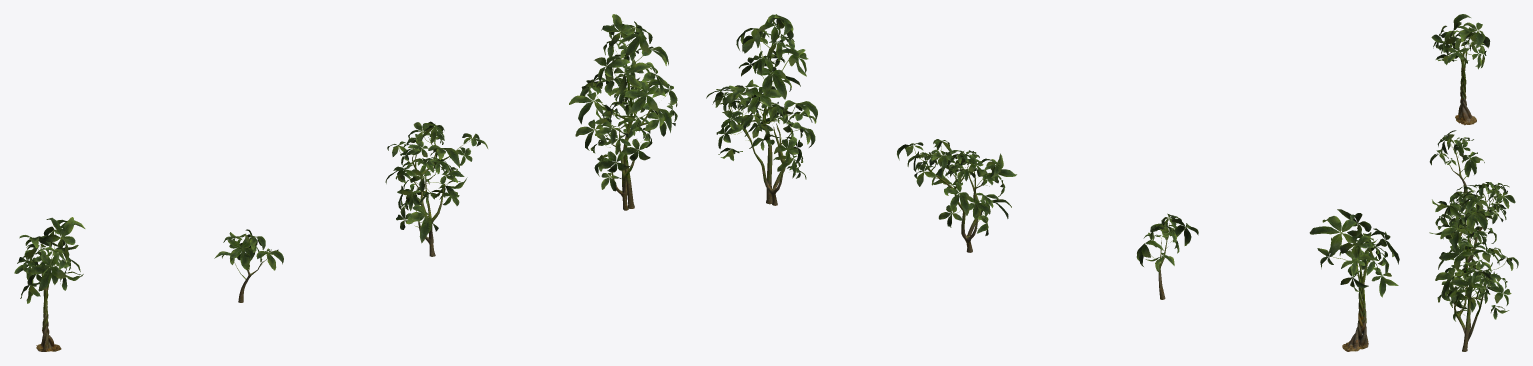
File: pachira_aquatica_01.glb
3 renders of one model, left to right at view 1: azimuth 30°, elevation 25°; view 2: azimuth 150°, elevation 25°; view 3: azimuth 270°, elevation 25°, orthographic. The views are drawn at different scales.
Visible parts, largest first — view 1: pachira_aquatica_01_leaves_d, pachira_aquatica_01_leaves_c, pachira_aquatica_01_leaves_a, pachira_aquatica_01_leaves_b, pachira_aquatica_01_bark_d, pachira_aquatica_01_bark_c, pachira_aquatica_01_bark_a; view 2: pachira_aquatica_01_leaves_d, pachira_aquatica_01_leaves_c, pachira_aquatica_01_leaves_a, pachira_aquatica_01_leaves_b, pachira_aquatica_01_bark_d, pachira_aquatica_01_bark_a, pachira_aquatica_01_bark_c; view 3: pachira_aquatica_01_leaves_d, pachira_aquatica_01_leaves_c, pachira_aquatica_01_leaves_a, pachira_aquatica_01_leaves_b, pachira_aquatica_01_bark_d, pachira_aquatica_01_bark_a, pachira_aquatica_01_bark_c, pachira_aquatica_01_bark_b.
Part boxes in pixels (<box>): pachira_aquatica_01_leaves_d: <box>569,14,677,191</box>; pachira_aquatica_01_leaves_c: <box>385,121,487,243</box>; pachira_aquatica_01_leaves_a: <box>14,217,85,303</box>; pachira_aquatica_01_leaves_b: <box>214,229,283,279</box>; pachira_aquatica_01_bark_d: <box>595,44,652,210</box>; pachira_aquatica_01_bark_c: <box>409,137,457,256</box>; pachira_aquatica_01_bark_a: <box>36,265,61,351</box>; pachira_aquatica_01_leaves_d: <box>706,14,817,179</box>; pachira_aquatica_01_leaves_c: <box>897,139,1016,235</box>; pachira_aquatica_01_leaves_a: <box>1309,209,1399,297</box>; pachira_aquatica_01_leaves_b: <box>1136,213,1198,274</box>; pachira_aquatica_01_bark_d: <box>728,43,793,205</box>; pachira_aquatica_01_bark_a: <box>1342,259,1368,351</box>; pachira_aquatica_01_bark_c: <box>923,159,988,252</box>; pachira_aquatica_01_leaves_d: <box>1429,190,1518,321</box>; pachira_aquatica_01_leaves_c: <box>1432,182,1515,244</box>; pachira_aquatica_01_leaves_a: <box>1431,14,1490,69</box>; pachira_aquatica_01_leaves_b: <box>1429,130,1484,179</box>; pachira_aquatica_01_bark_d: <box>1454,219,1492,351</box>; pachira_aquatica_01_bark_a: <box>1455,48,1476,125</box>; pachira_aquatica_01_bark_c: <box>1453,194,1497,268</box>; pachira_aquatica_01_bark_b: <box>1449,149,1467,194</box>.
Bounding box in the file's own units: 6.87 × 1.9 × 0.9971.
Materials: 2 (2 with a texture image).
